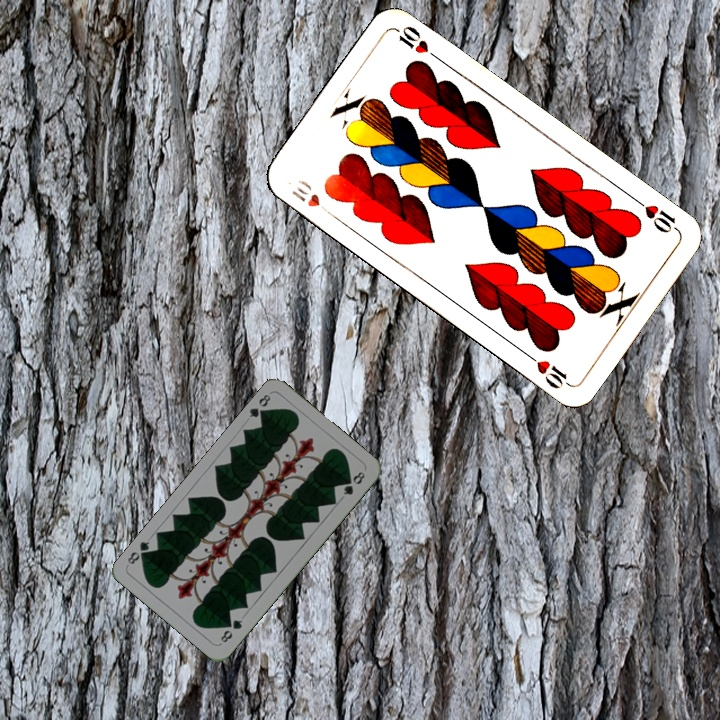G8: (245, 390, 273, 422), (216, 615, 245, 645)
H10: (630, 194, 682, 236), (287, 175, 335, 219)
